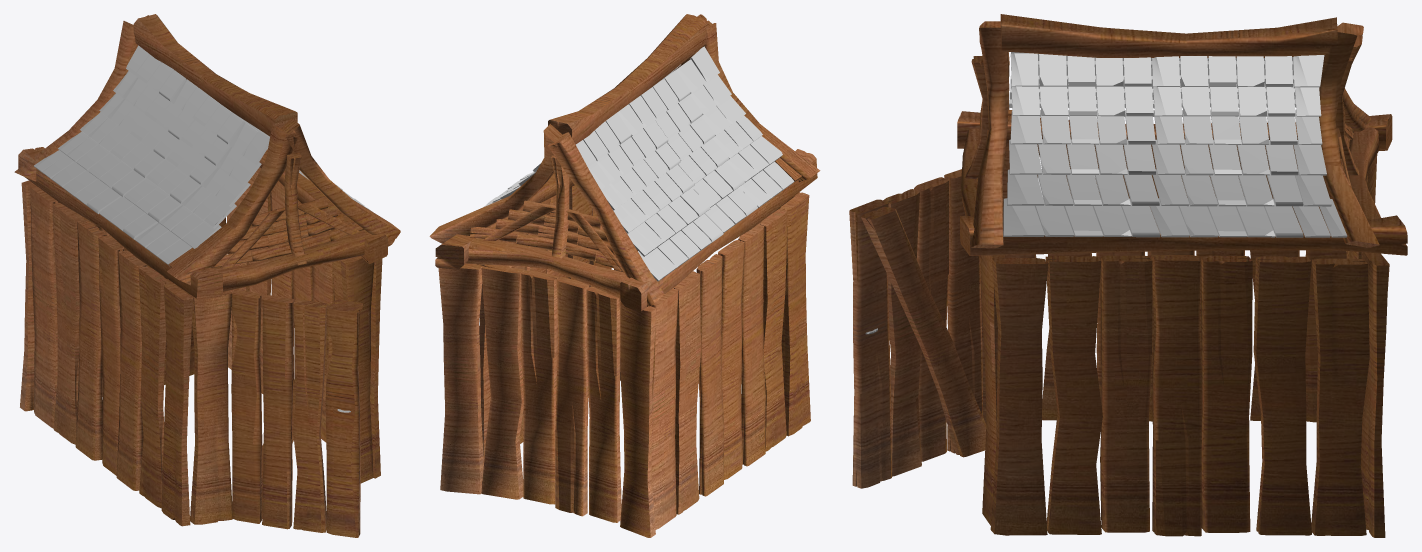
The model's file is Baño.fbx.
The picture shows the model from 3 angles, left to right: view 1: azimuth 30°, elevation 25°; view 2: azimuth 150°, elevation 25°; view 3: azimuth 270°, elevation 25°; orthographic projection. The views are drawn at different scales.
Parts seen in each view (by area): view 1: Object041; view 2: Object041; view 3: Object041.
Boxes of the visible parts, x1,y1,x2,y2 form: Object041: (14,14,400,537); Object041: (429,14,820,537); Object041: (849,14,1407,537).
Bounding box in the file's own units: 0.6807 × 1.09 × 1.19.
